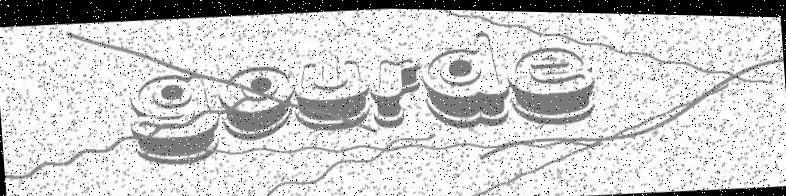d: (420, 27, 512, 126)
e: (507, 42, 597, 125)
g: (127, 71, 222, 167)
o: (217, 63, 297, 141)
r: (369, 56, 424, 127)
u: (292, 57, 372, 130)
